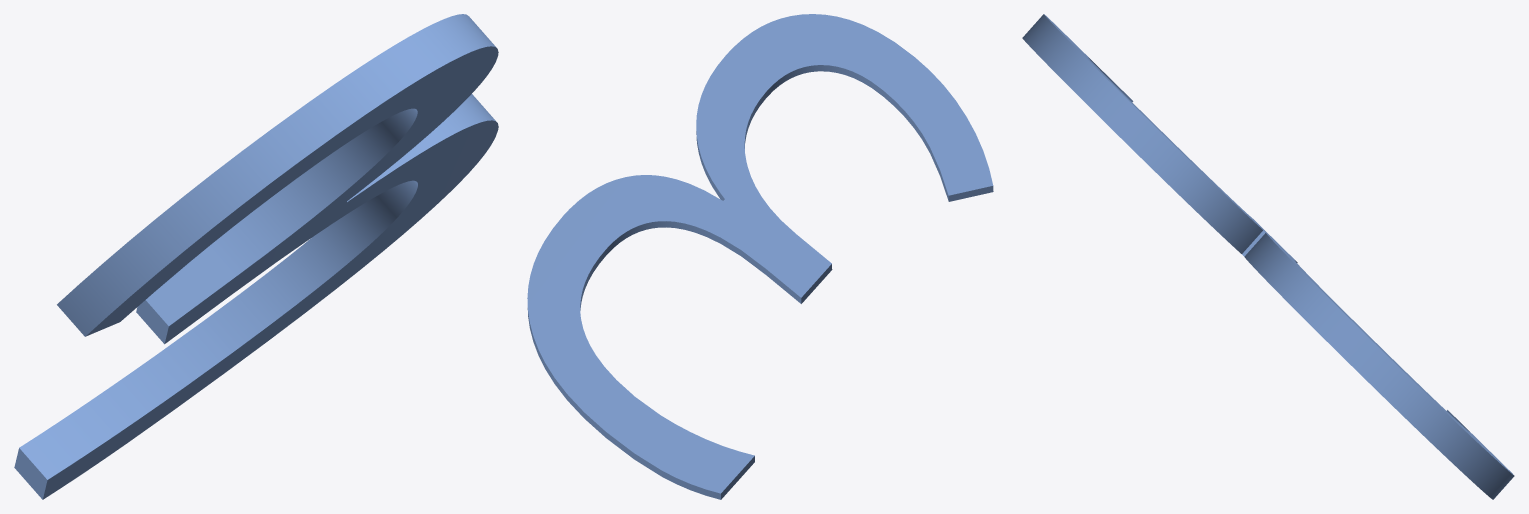
File: New_Number_3.gltf
3 renders of one model, left to right at view 1: azimuth 30°, elevation 25°; view 2: azimuth 150°, elevation 25°; view 3: azimuth 270°, elevation 25°, orthographic. The views are drawn at different scales.
Visible parts, largest first — view 1: Part 237; view 2: Part 237; view 3: Part 237.
Boxes of the visible parts, bbox=[...] form: Part 237: bbox=[14, 14, 498, 499]; Part 237: bbox=[527, 14, 993, 499]; Part 237: bbox=[1022, 14, 1514, 499].
Bounding box in the file's own units: 0.00424 × 0.00419 × 0.00388.
